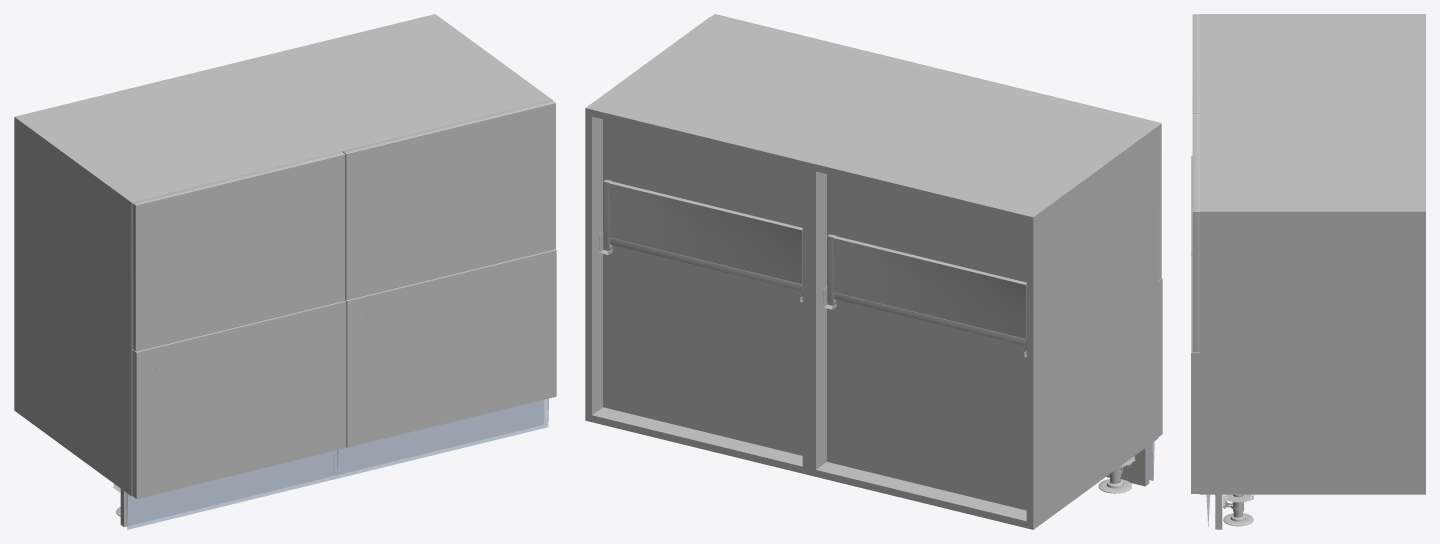
3 renders of one model, left to right at view 1: azimuth 30°, elevation 25°; view 2: azimuth 150°, elevation 25°; view 3: azimuth 270°, elevation 25°, orthographic. The views are drawn at different scales.
Visible parts, largest first — view 1: 2, 130, 20, 131, 21, 5, 9, 18, 19, 12, 13, 4; view 2: 1, 0, 2, 5, 9, 106, 110, 3, 7, 4, 8, 6 (+6 smaller); view 3: 7, 9, 5, 131, 21, 130, 157, 13.
Part boxes in pixels (<box>): 2: <box>14,123,132,489</box>; 130: <box>132,151,345,351</box>; 20: <box>132,300,346,498</box>; 131: <box>343,100,555,299</box>; 21: <box>345,249,556,447</box>; 5: <box>14,65,342,209</box>; 9: <box>225,14,552,151</box>; 18: <box>126,450,338,529</box>; 19: <box>337,398,548,478</box>; 12: <box>120,452,332,526</box>; 13: <box>334,400,543,474</box>; 4: <box>14,404,132,496</box>; 1: <box>603,119,802,455</box>; 0: <box>827,174,1026,510</box>; 2: <box>1026,133,1158,522</box>; 5: <box>809,71,1158,224</box>; 9: <box>585,16,933,169</box>; 106: <box>833,236,1026,338</box>; 110: <box>609,181,802,284</box>; 3: <box>809,170,826,476</box>; 7: <box>585,115,602,422</box>; 4: <box>816,432,1158,529</box>; 8: <box>592,407,809,474</box>; 6: <box>802,168,809,467</box>; 7: <box>1199,218,1425,494</box>; 9: <box>1199,113,1425,218</box>; 5: <box>1199,14,1425,112</box>; 131: <box>1192,113,1199,352</box>; 21: <box>1191,254,1199,493</box>; 130: <box>1192,14,1199,113</box>; 157: <box>1223,494,1253,526</box>; 13: <box>1215,494,1222,529</box>.
Bounding box in the file's own units: 1.2 × 0.9 × 0.602.
